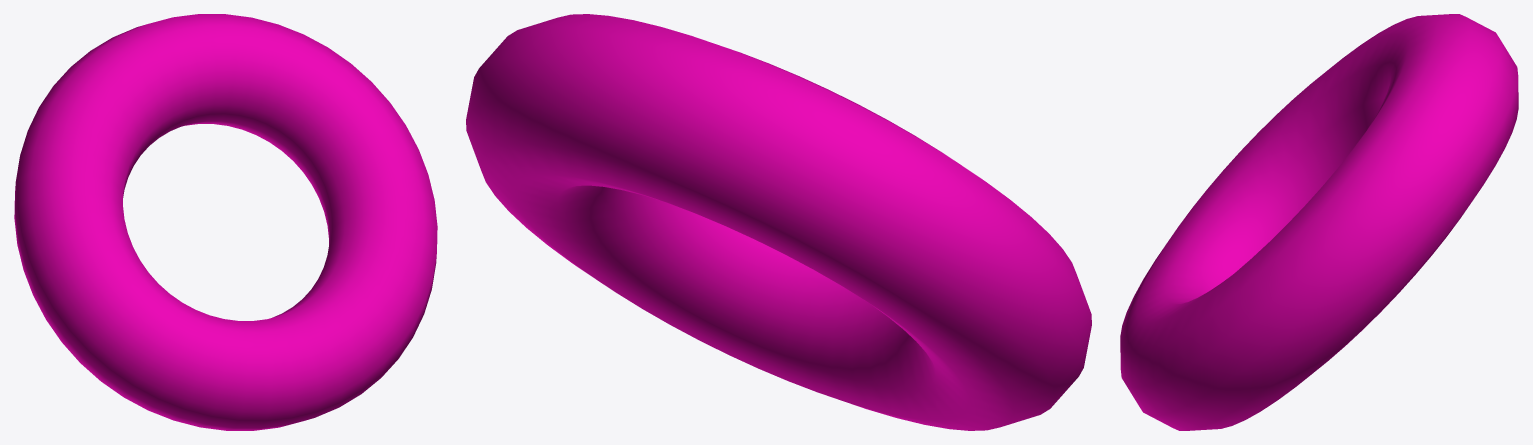
The picture shows the model from 3 angles, left to right: view 1: azimuth 30°, elevation 25°; view 2: azimuth 150°, elevation 25°; view 3: azimuth 270°, elevation 25°; orthographic projection. The views are drawn at different scales.
Parts seen in each view (by area): view 1: Torus.004; view 2: Torus.004; view 3: Torus.004.
Part boxes in pixels (<box>): Torus.004: <box>14,14,437,430</box>; Torus.004: <box>466,14,1091,430</box>; Torus.004: <box>1120,14,1518,430</box>.
Bounding box in the file's own units: 1.19 × 0.9377 × 0.9205.
